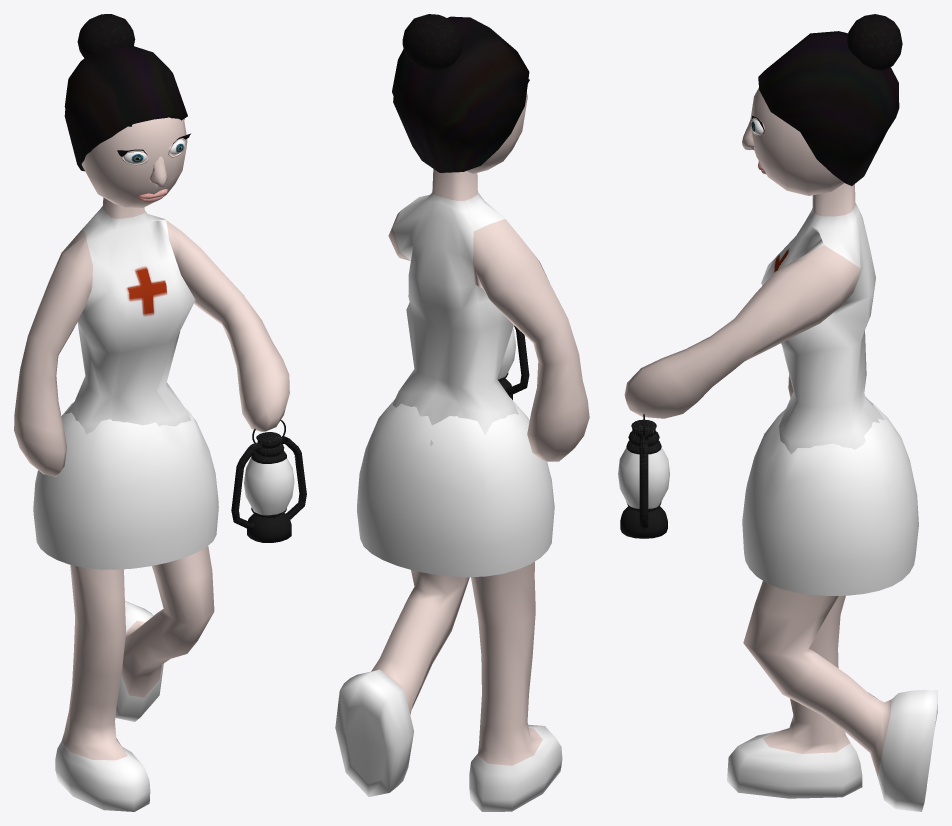
File: walking_000017.obj
The picture shows the model from 3 angles, left to right: view 1: azimuth 30°, elevation 25°; view 2: azimuth 150°, elevation 25°; view 3: azimuth 270°, elevation 25°; orthographic projection. The views are drawn at different scales.
Parts seen in each view (by area): view 1: Cube_Cube.001, Cube.001_Cube, Cube.004; view 2: Cube_Cube.001, Cube.001_Cube, Cube.004; view 3: Cube_Cube.001, Cube.001_Cube, Cube.004.
Part boxes in pixels (<box>): Cube_Cube.001: <box>14,14,289,811</box>; Cube.001_Cube: <box>33,402,218,569</box>; Cube.004: <box>231,420,306,542</box>; Cube_Cube.001: <box>335,14,589,811</box>; Cube.001_Cube: <box>357,398,554,577</box>; Cube.004: <box>497,325,529,399</box>; Cube_Cube.001: <box>624,14,937,811</box>; Cube.001_Cube: <box>742,401,918,595</box>; Cube.004: <box>618,414,669,538</box>.
Size of the model in its own units: 0.6069 by 2.08 by 0.7625.
